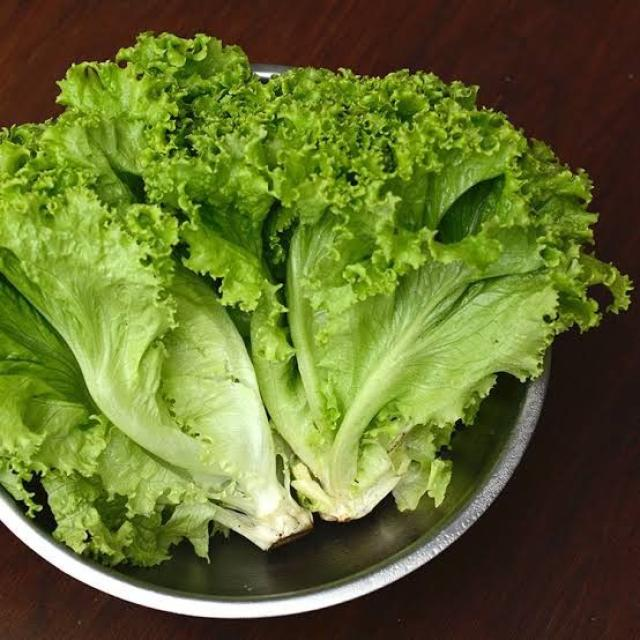lettuce: (0, 34, 629, 563), (0, 124, 310, 548)
